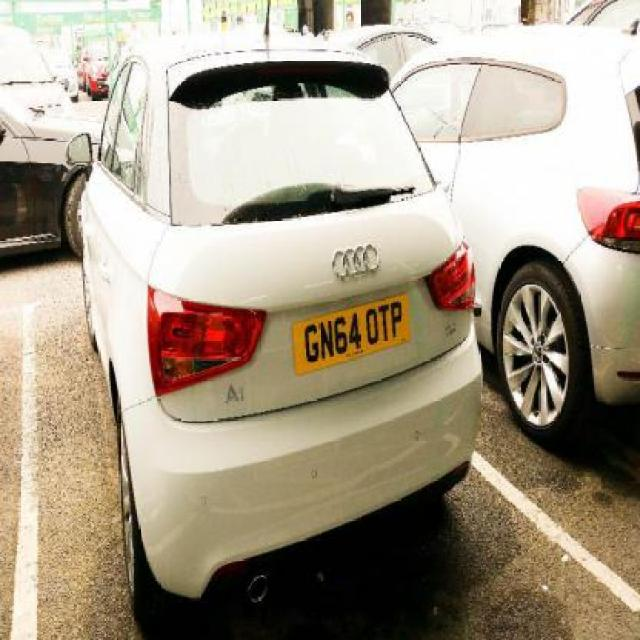License-Plates: (291, 290, 410, 378)
